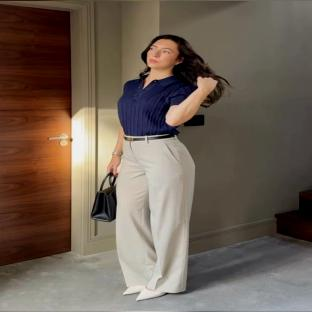Human: (108, 35, 230, 300)
